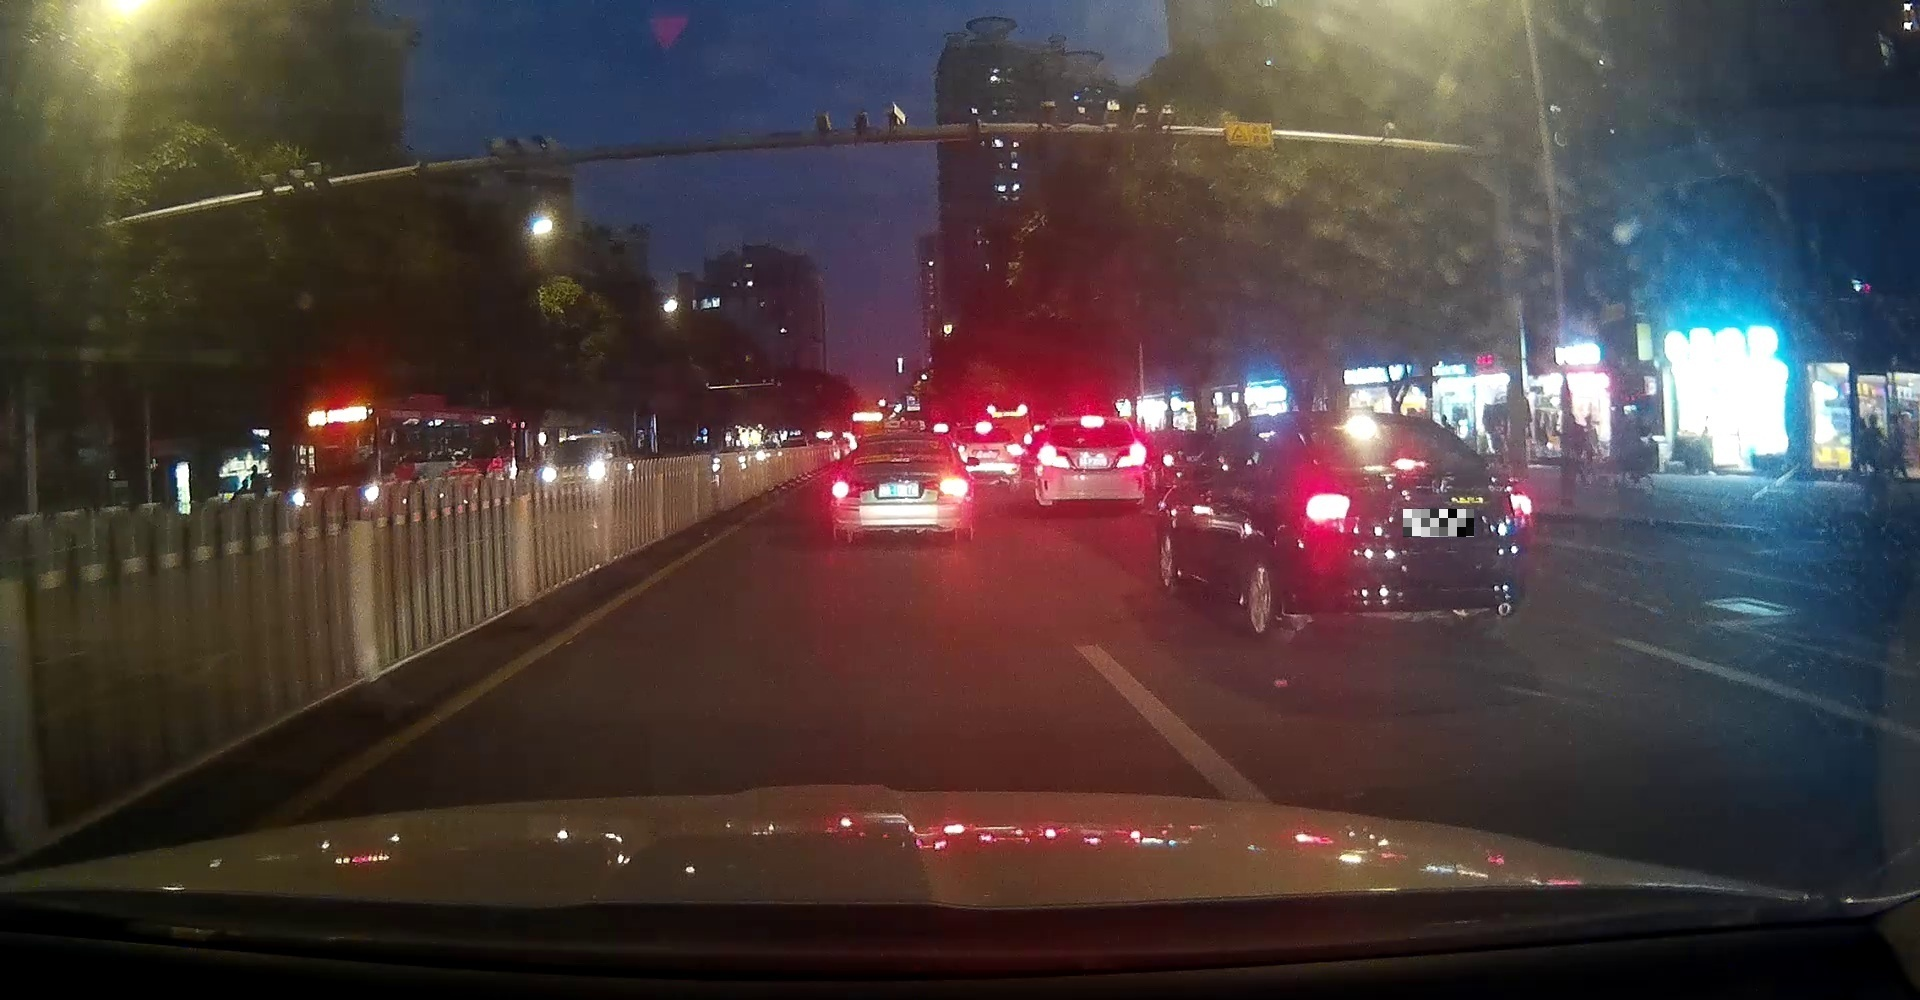L_light: (1305, 492, 1350, 523), (833, 478, 877, 499), (1036, 445, 1070, 470)
R_light: (922, 475, 970, 496), (1116, 442, 1145, 468), (1509, 492, 1530, 516)
T_light: (1390, 457, 1429, 470), (1079, 416, 1103, 426), (891, 439, 912, 442)
night-brake: (1285, 411, 1534, 643), (1035, 415, 1145, 511)
night-no: (833, 431, 971, 543)
plate_1: (1403, 509, 1474, 537)
